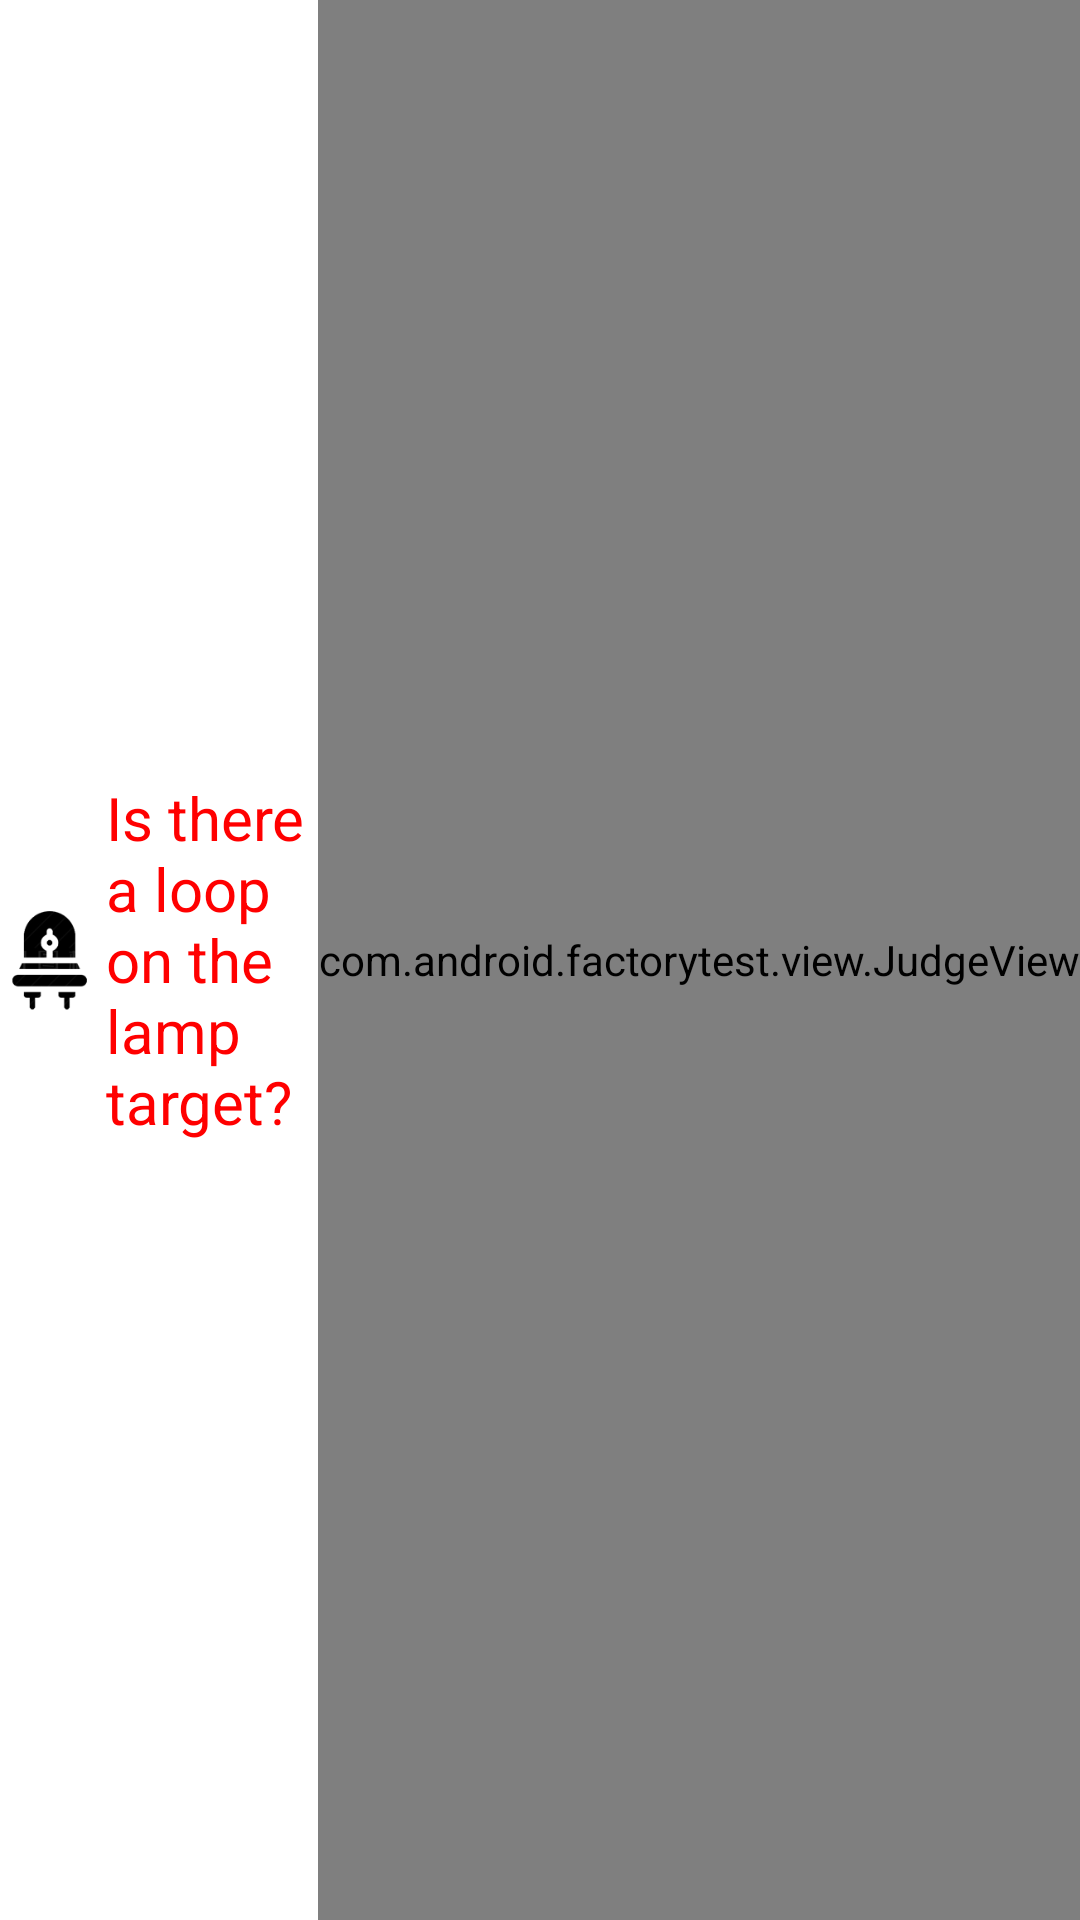

Icon click points for this 1080w x 1920h phone screenshot, format point (x, y):
led: point (49, 960)
